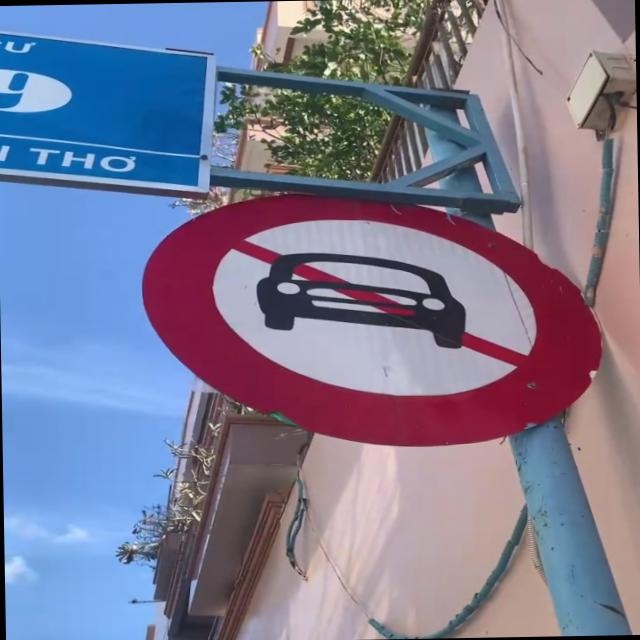Cam_O_To: (136, 185, 608, 452)
